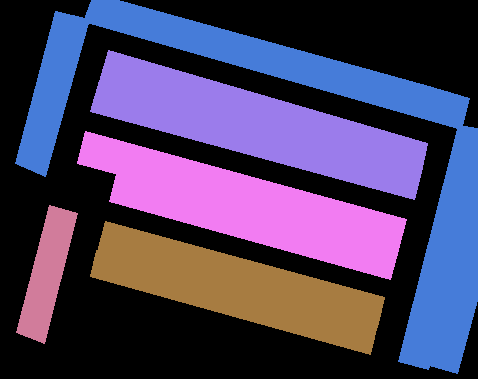parkingspot: (83, 0, 469, 129), (99, 50, 427, 172), (90, 80, 422, 199), (77, 131, 406, 249), (109, 170, 399, 279), (97, 221, 384, 327), (90, 250, 377, 354), (398, 125, 478, 369), (15, 11, 89, 176), (429, 172, 478, 373), (16, 205, 77, 343)
